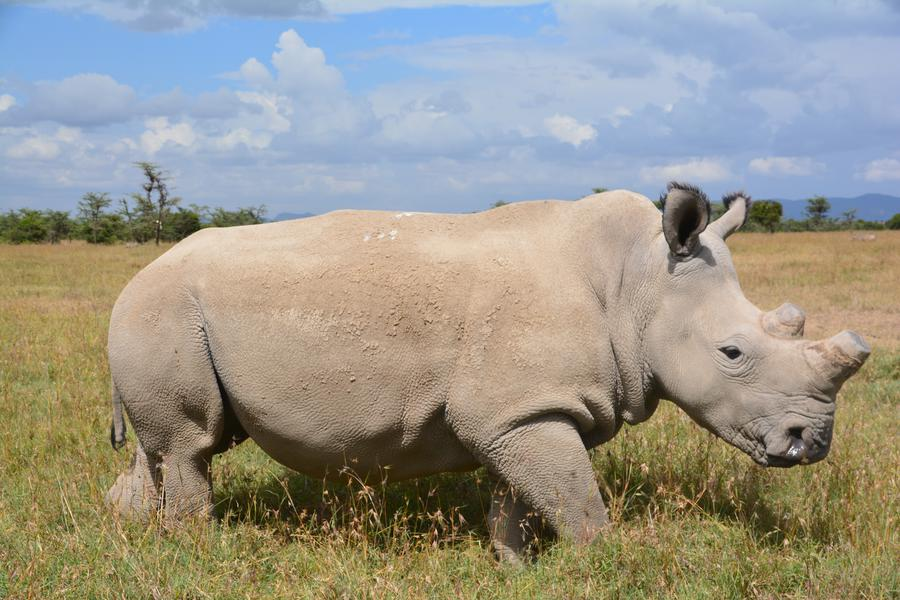rhino: (108, 179, 844, 481)
